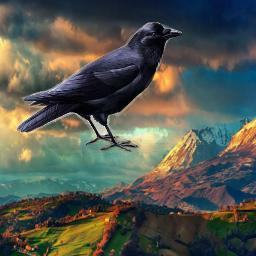Crow: (16, 22, 182, 154)
